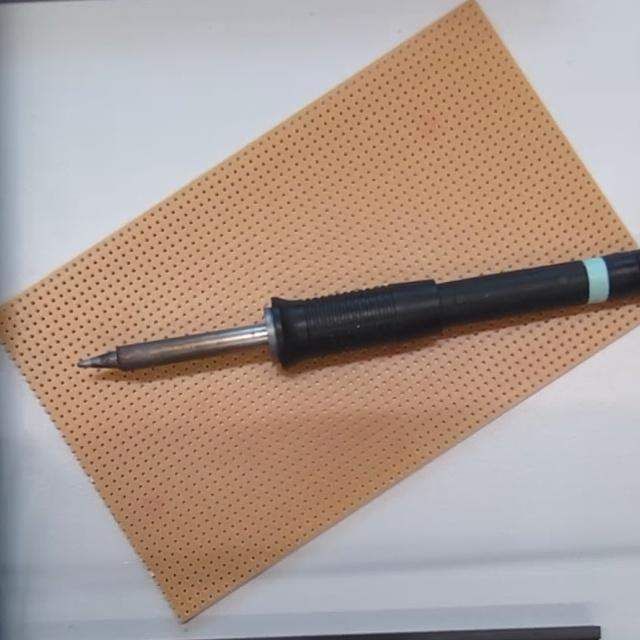soldering_iron: (74, 251, 640, 381)
